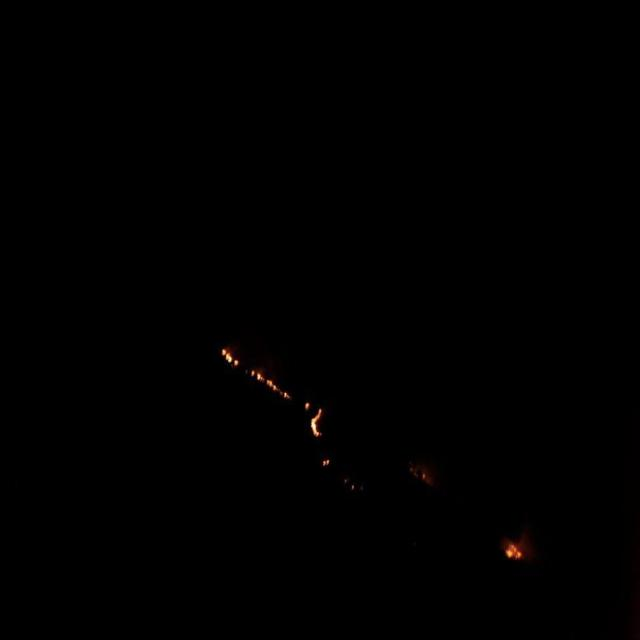Fire: (252, 370, 294, 400), (499, 532, 527, 564), (309, 407, 323, 438), (222, 346, 238, 365)
